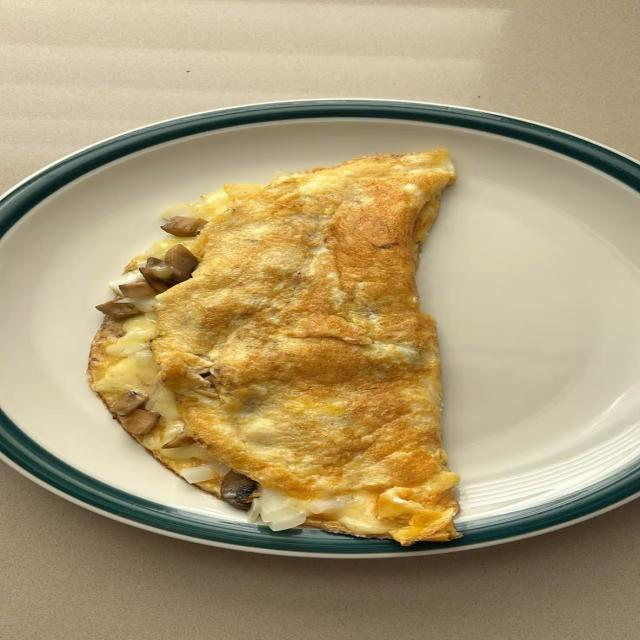omelette: (89, 150, 458, 545)
